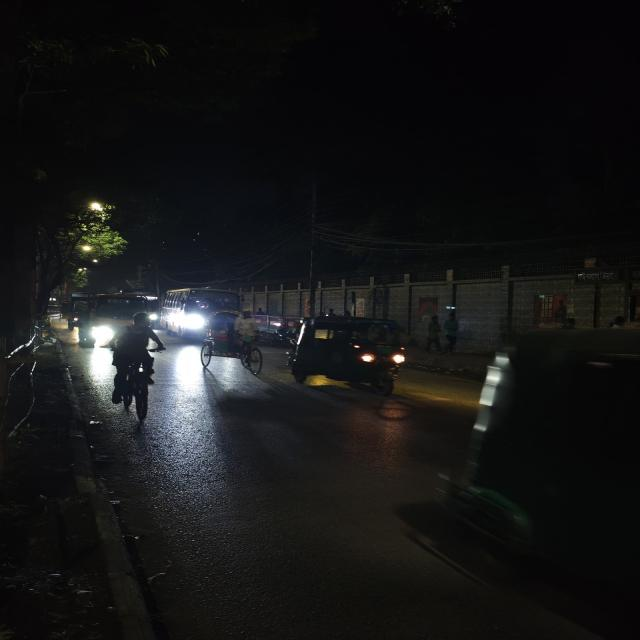bus: (164, 288, 240, 342)
cng: (291, 314, 405, 392)
pedestrian: (105, 311, 167, 417), (421, 315, 448, 356)
pickup_van: (71, 292, 162, 342)
rickshaw: (198, 313, 266, 375)
